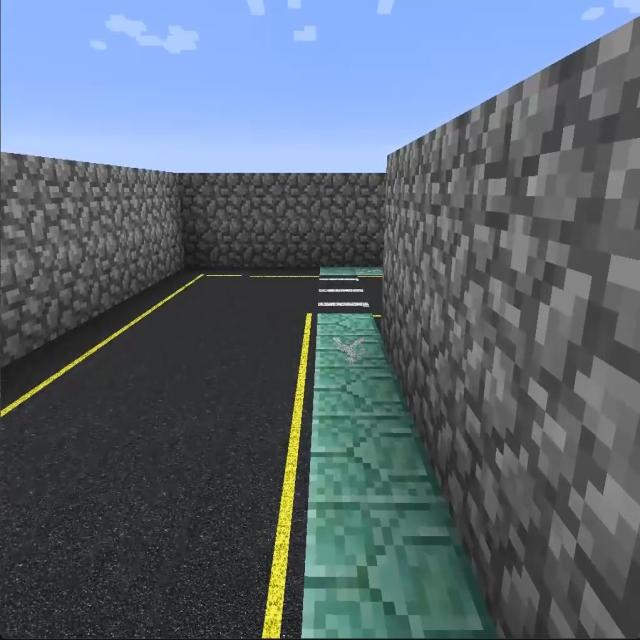crosswalk: (317, 278, 376, 311)
road: (1, 267, 316, 634)
sidewalk: (301, 313, 496, 639), (320, 267, 382, 276)
